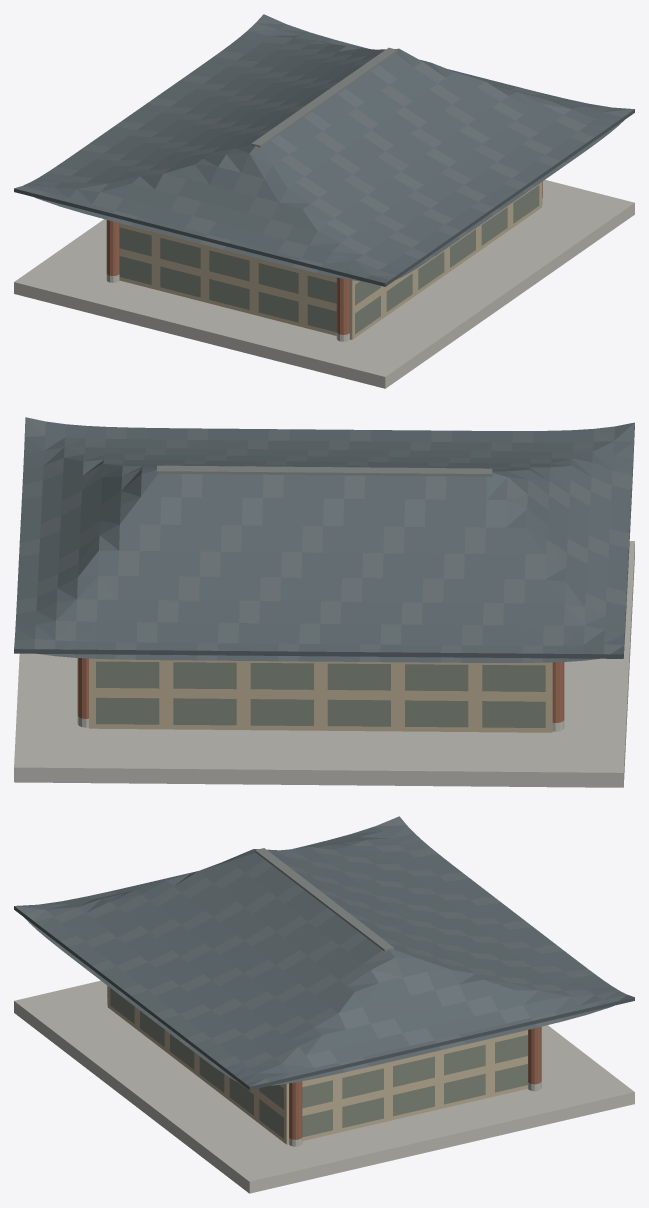
File: civic-070f3410-6690-44e2-b0fc-6ad56d553217.glb
3 renders of one model, top to bottom at view 1: azimuth 30°, elevation 25°; view 2: azimuth 150°, elevation 25°; view 3: azimuth 270°, elevation 25°, orthographic. The views are drawn at different scales.
Visible parts, largest first — view 1: civic-070f3410-6690-44e2-b0fc-6ad56d553217; view 2: civic-070f3410-6690-44e2-b0fc-6ad56d553217; view 3: civic-070f3410-6690-44e2-b0fc-6ad56d553217.
Boxes of the visible parts, bbox=[...] form: civic-070f3410-6690-44e2-b0fc-6ad56d553217: bbox=[14, 14, 634, 388]; civic-070f3410-6690-44e2-b0fc-6ad56d553217: bbox=[14, 417, 634, 787]; civic-070f3410-6690-44e2-b0fc-6ad56d553217: bbox=[14, 816, 634, 1193].
Bounding box in the file's own units: 31.89 × 8.78 × 30.94.
